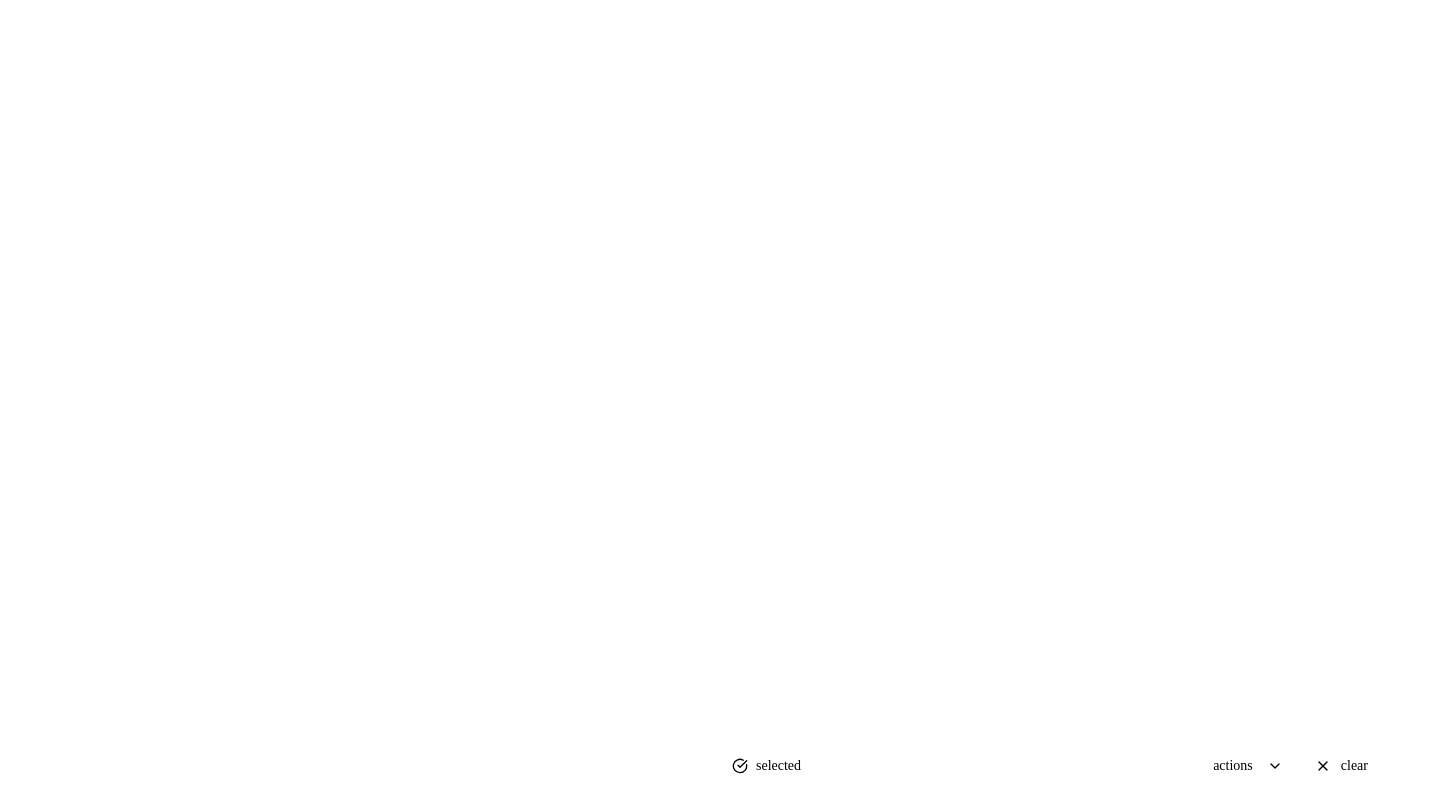
it: BulkActionBar › should show confirmation dialog for actions that require it
Click the button "actions": (1248, 766) x1=1201 y1=750 x2=1295 y2=782
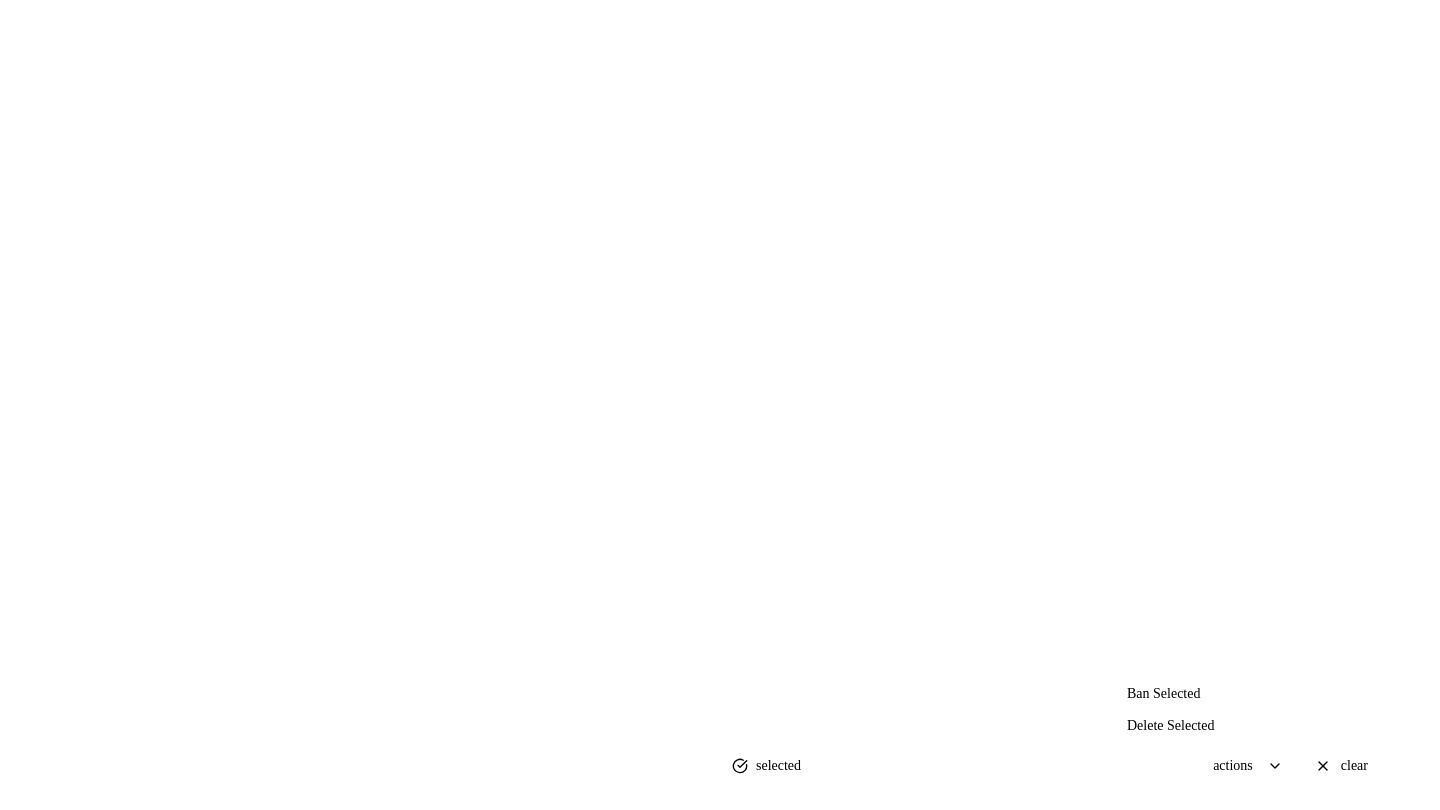
Click the menu item "Ban Selected": (1164, 694) x1=1127 y1=686 x2=1200 y2=701
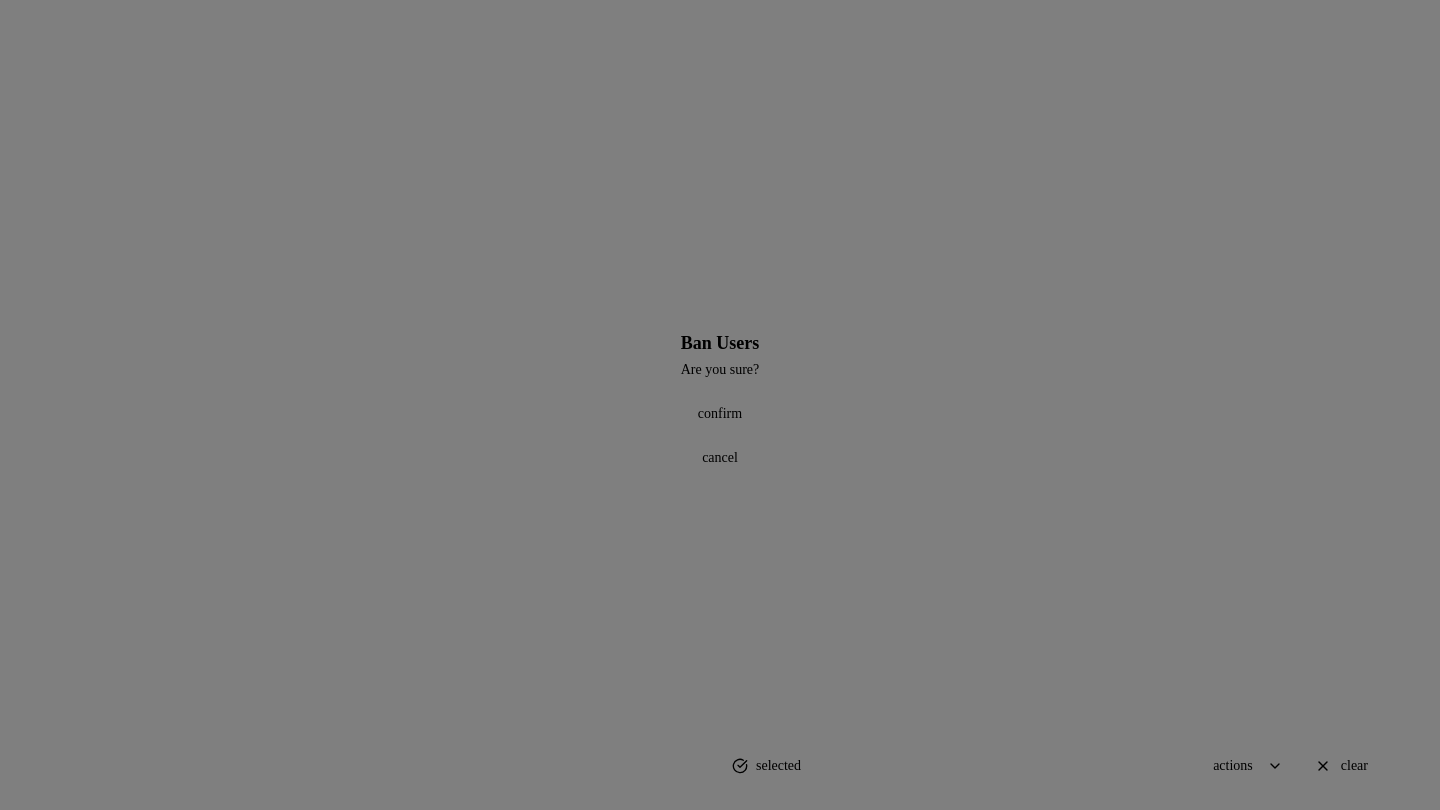
Check: the heading "Ban Users" is shown, box x1=681 y1=333 x2=759 y2=353
Check: the text "Are you sure?" is shown, box x1=681 y1=362 x2=759 y2=377
